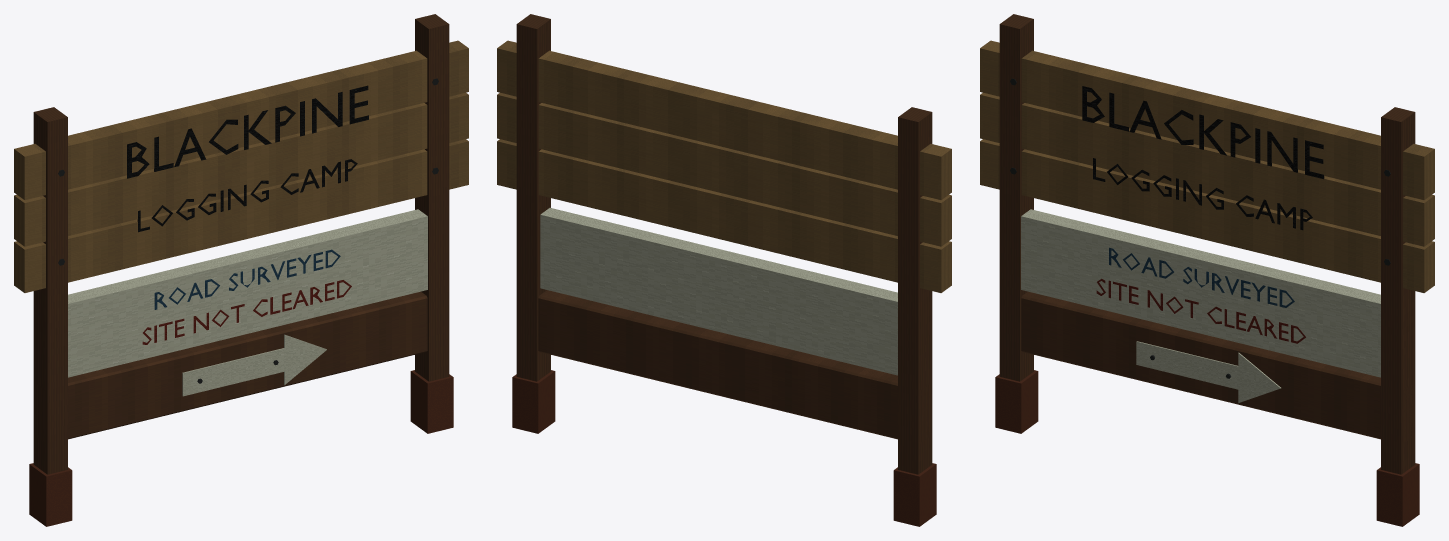
File: level_work_camp_sign.glb
3 renders of one model, left to right at view 1: azimuth 30°, elevation 25°; view 2: azimuth 150°, elevation 25°; view 3: azimuth 330°, elevation 25°, orthographic.
Visible parts, largest first — view 1: level_work_camp_sign; view 2: level_work_camp_sign; view 3: level_work_camp_sign.
Part boxes in pixels (<box>): level_work_camp_sign: <box>14,14,468,526</box>; level_work_camp_sign: <box>497,14,951,526</box>; level_work_camp_sign: <box>980,14,1434,526</box>.
Size of the model in its own units: 2.4 by 2.08 by 0.16.
Materials: 8 (8 with a texture image).
